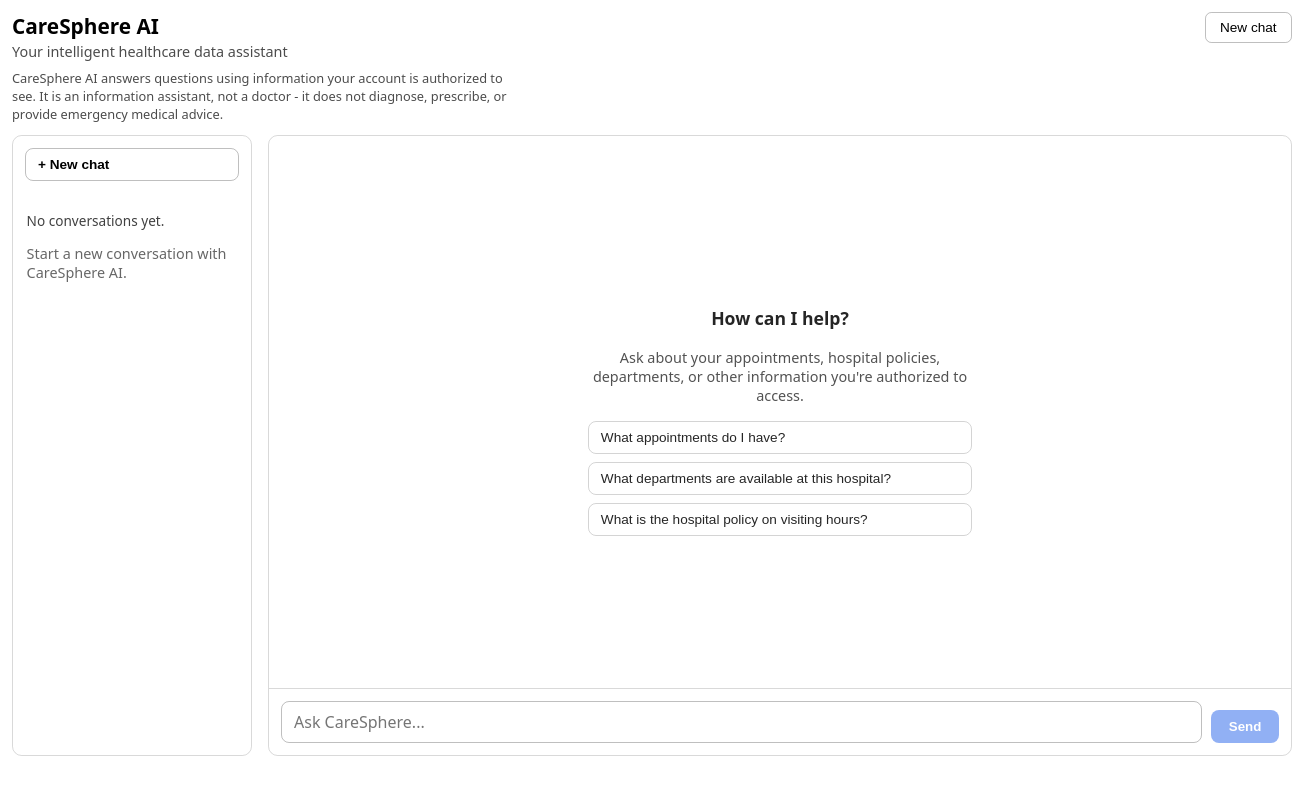
Test: ChatPage › shows a safe error message and preserves the user message on failure
Type "What appointments do I have?" into the text box named "Ask CareSphere AI a question" at [741, 722], box [281,701,1202,743]
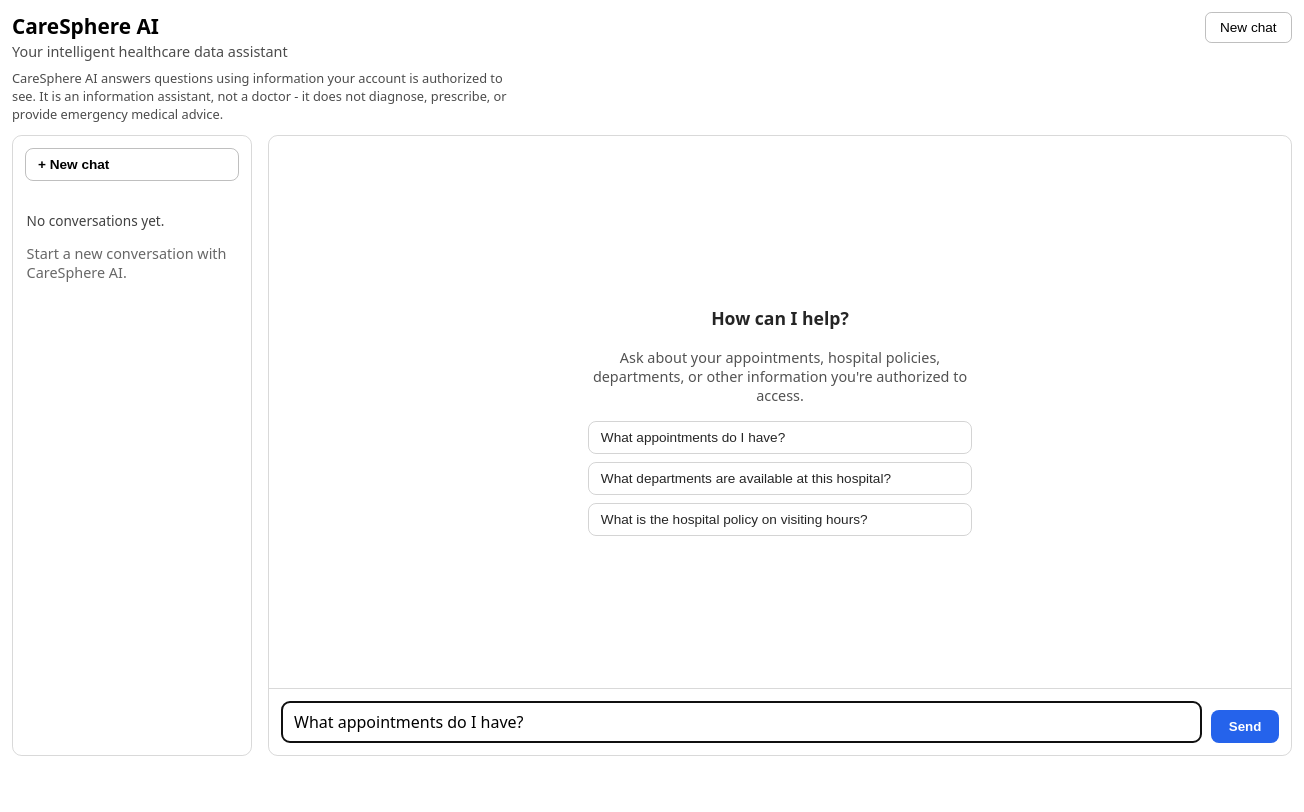
Click the button "Send" at [1245, 727], box [1211,710,1279,743]
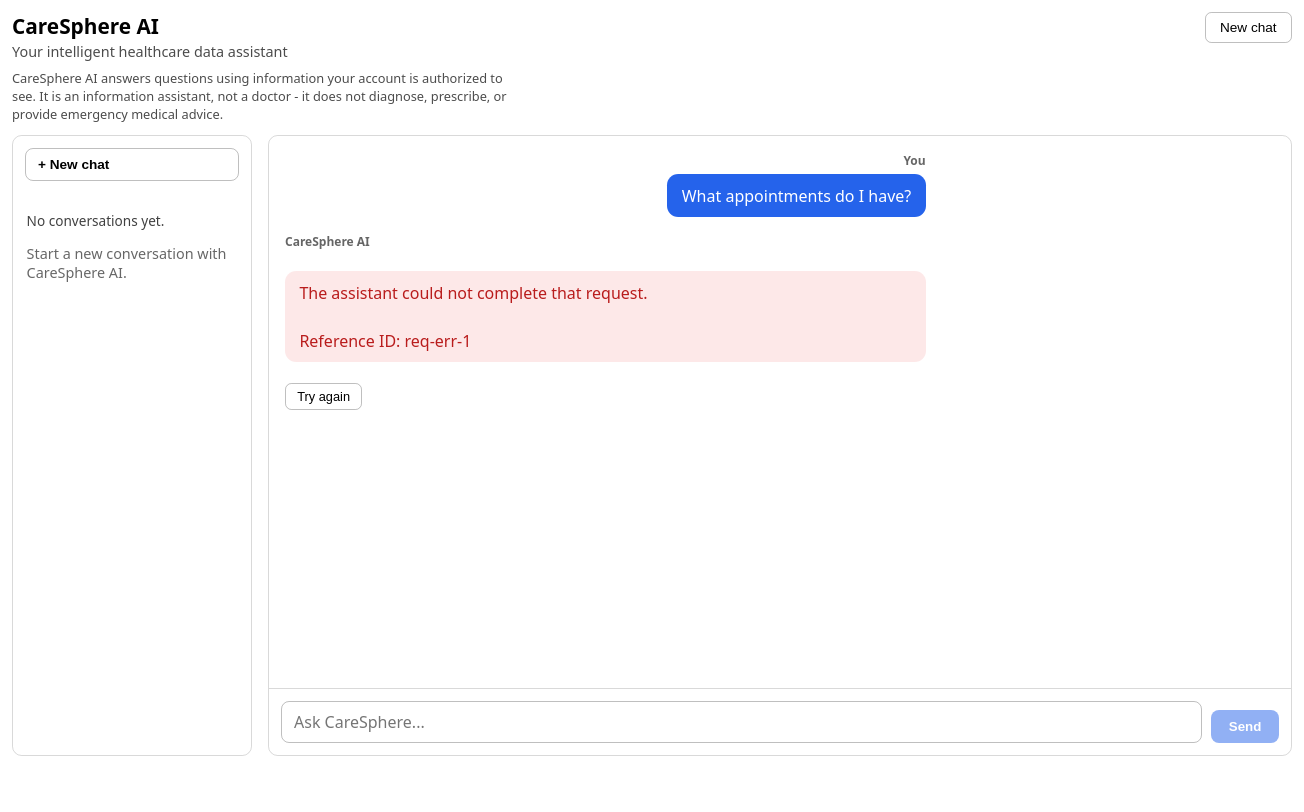
Expected: the message is shown, [285,233,926,410]
Expected: the message shows "The assistant could not complete that request.", [299,282,648,352]
Expected: the message shows "req-err-1", [299,282,648,352]
